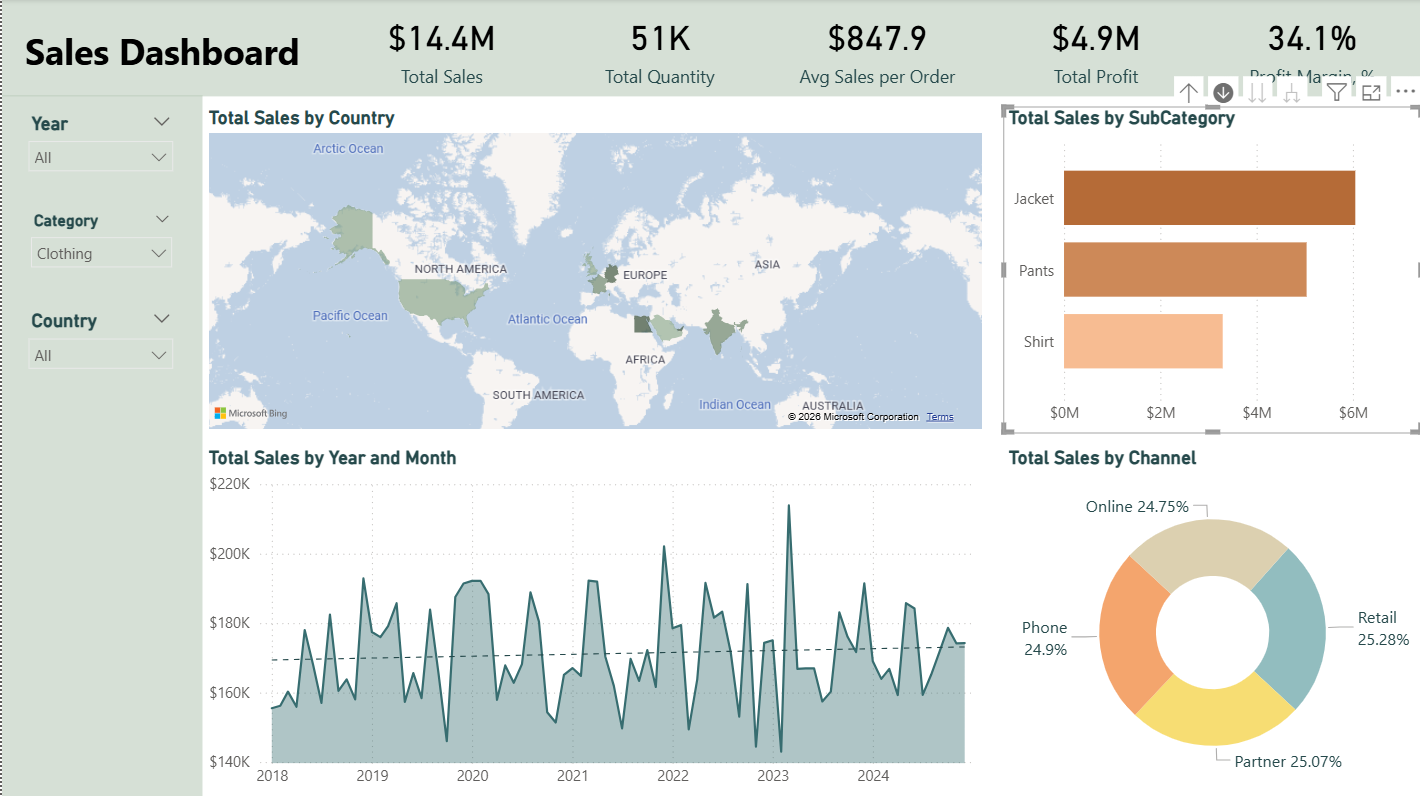

The page's visual inventory and layout, read from the dashboard file:
{"tool":"powerbi","page":{"name":"Sales Dashboard","canvas":[1280,720],"ordinal":0},"visuals":[{"type":"shape","box":[0,86.8,181,632.2],"z":0},{"type":"shape","box":[0,0,1280.3,87.8],"z":1000},{"type":"card","fields":{"Values":["_Measures.Total Sales"]},"box":[299.1,0,196.2,87.8],"z":2000},{"type":"clusteredBarChart","fields":{"Y":["_Measures.Total Sales"],"Category":["DimProduct.Category","DimProduct.SubCategory"]},"box":[902.5,96.6,377.9,295.9],"z":3000},{"type":"filledMap","title":"Total Sales by Country","fields":{"Category":["DimGeography.Country"]},"box":[181,96.6,706.8,295.9],"z":4000},{"type":"lineChart","fields":{"Category":["FactSales.OrderDateKey.Variation.Date Hierarchy.Year","FactSales.OrderDateKey.Variation.Date Hierarchy.Month"],"Y":["_Measures.Total Sales"]},"box":[181,403.5,706.8,316.7],"z":5000},{"type":"donutChart","fields":{"Y":["_Measures.Total Sales"],"Category":["FactSales.Channel"]},"box":[902.5,403.5,377.9,316.7],"z":6000},{"type":"textbox","box":[15.9,20.8,270.2,66],"z":7000},{"type":"slicer","fields":{"Values":["FactSales.OrderDateKey.Variation.Date Hierarchy.Year"]},"box":[13.5,96.6,150.4,73.4],"z":8000},{"type":"slicer","fields":{"Values":["DimProduct.Category"]},"box":[15.9,185.9,148,68.5],"z":9000},{"type":"slicer","fields":{"Values":["DimGeography.Country"]},"box":[13.5,275.1,150.4,63.6],"z":10000},{"type":"card","fields":{"Values":["_Measures.Total Quantity"]},"box":[494.3,0,197.1,87.1],"z":11000},{"type":"card","fields":{"Values":["_Measures.Avg Sales per Order"]},"box":[691.4,0,197.1,87.1],"z":12000},{"type":"card","fields":{"Values":["_Measures.Total Profit"]},"box":[888.6,0,197.1,87.1],"z":13000},{"type":"card","fields":{"Values":["_Measures.Profit Margin %"]},"box":[1082.9,0,197.1,87.1],"z":14000}]}

Visuals, with their boxes in screenshot pixels (x1, y1, x2, y2), scaled from the page's 1280x720 canvas onto the 1420x796 screenshot:
shape: l=0, t=96, r=201, b=795
shape: l=0, t=0, r=1419, b=97
card - _Measures.Total Sales: l=332, t=0, r=549, b=97
clusteredBarChart - _Measures.Total Sales x DimProduct.Category: l=1001, t=107, r=1419, b=434
"Total Sales by Country" filledMap: l=201, t=107, r=985, b=434
lineChart - FactSales.OrderDateKey.Variation.Date Hierarchy.Year x FactSales.OrderDateKey.Variation.Date Hierarchy.Month: l=201, t=446, r=985, b=795
donutChart - _Measures.Total Sales x FactSales.Channel: l=1001, t=446, r=1419, b=795
textbox: l=18, t=23, r=317, b=96
slicer - FactSales.OrderDateKey.Variation.Date Hierarchy.Year: l=15, t=107, r=182, b=188
slicer - DimProduct.Category: l=18, t=206, r=182, b=281
slicer - DimGeography.Country: l=15, t=304, r=182, b=374
card - _Measures.Total Quantity: l=548, t=0, r=767, b=96
card - _Measures.Avg Sales per Order: l=767, t=0, r=986, b=96
card - _Measures.Total Profit: l=986, t=0, r=1204, b=96
card - _Measures.Profit Margin %: l=1201, t=0, r=1419, b=96
